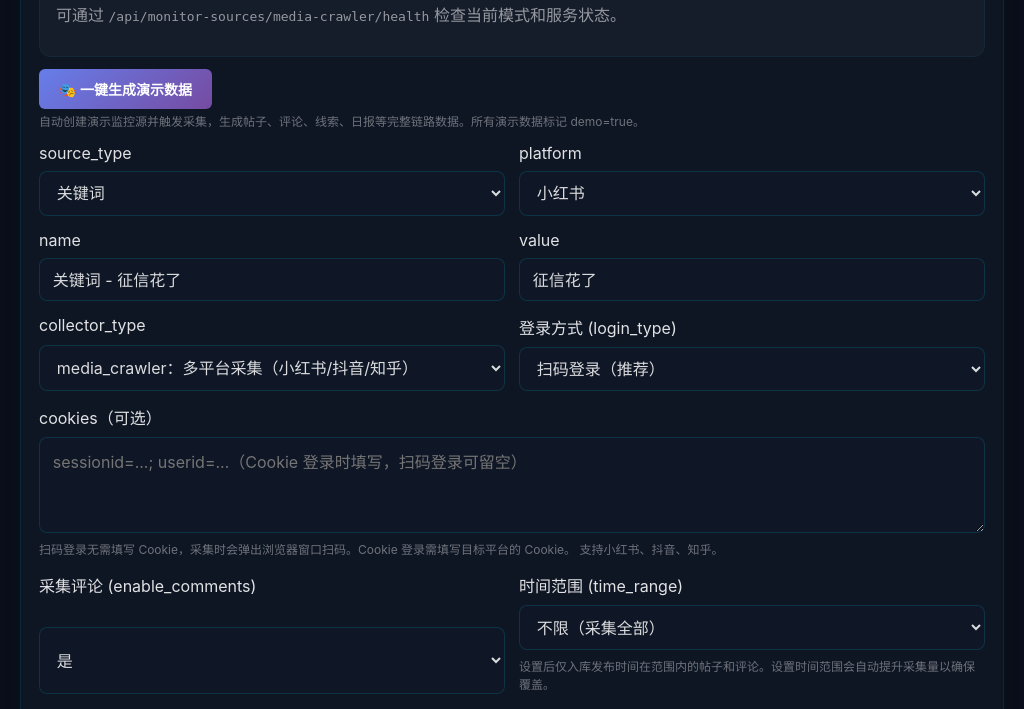
Test case: MonitorSourcesPage 组件交互测试 › 动态表单字段显示 › 选择 xhs_sdk 时，不显示 login_type 和 cookies 字段
(page scrolled)
Expected: the dropdown showing "关键词" is shown, [39, 171, 505, 216]
Select "xhs_sdk：小红书 SDK 直连采集" in the dropdown showing "media_crawler". click: (272, 368)
box: [39, 345, 505, 391]
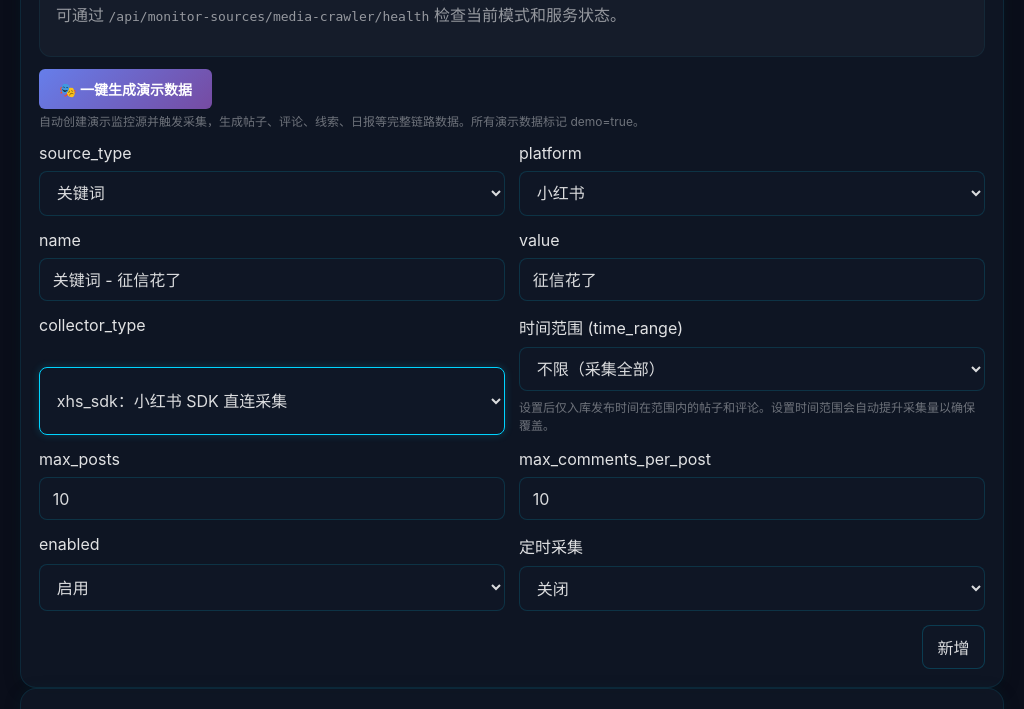
Result: the text "login_type" is gone
